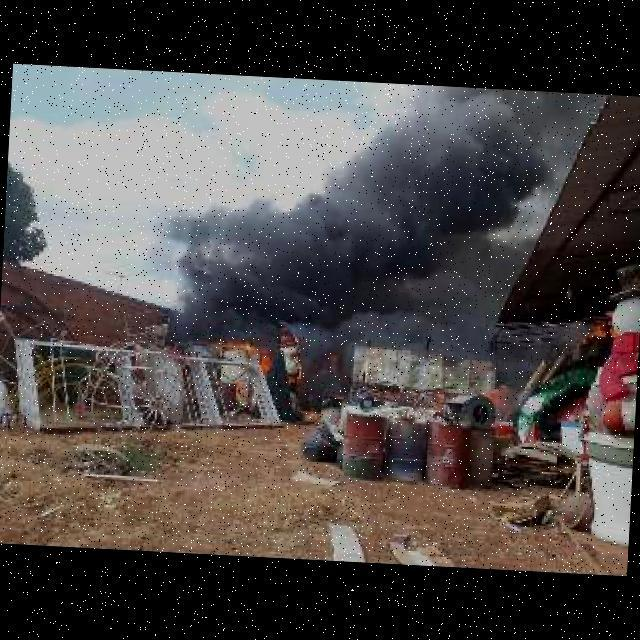Fire: (584, 314, 617, 344), (214, 339, 253, 355), (484, 385, 511, 404), (256, 345, 271, 370), (236, 382, 251, 399), (301, 409, 321, 420)
Smoke: (184, 113, 407, 342), (385, 82, 573, 251)
